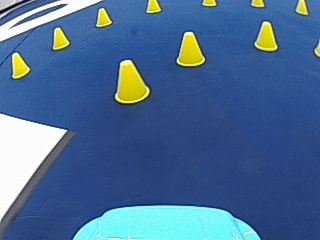cone: (113, 58, 149, 103), (175, 30, 205, 66), (253, 20, 278, 50), (9, 51, 29, 78), (51, 25, 69, 49), (95, 6, 111, 26), (294, 0, 308, 15), (146, 0, 160, 13), (251, 0, 263, 7)
